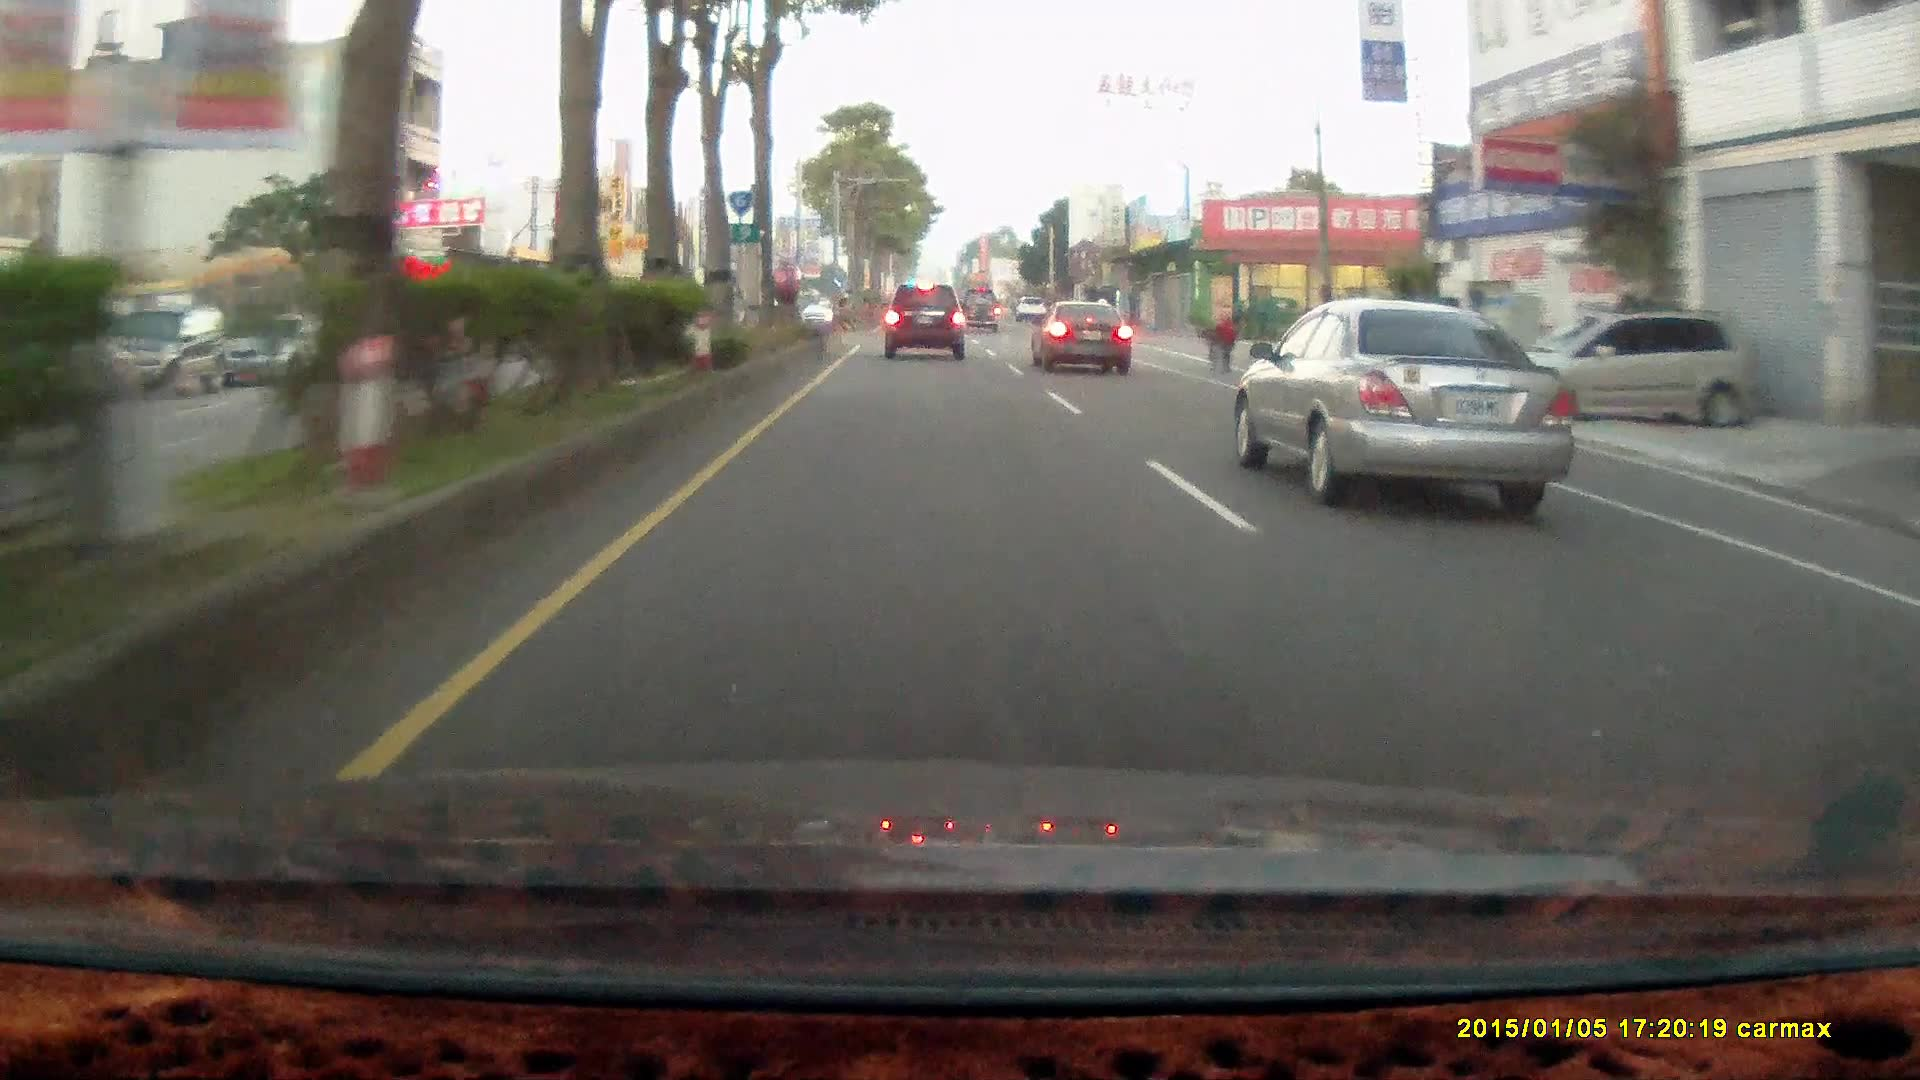pedestrian: (1213, 304, 1239, 375), (1217, 302, 1241, 366)
vehicle: (1238, 297, 1572, 505), (1500, 304, 1753, 427), (1516, 305, 1756, 428), (213, 307, 382, 392), (97, 303, 228, 397), (218, 311, 343, 384), (1032, 298, 1137, 378), (1029, 295, 1131, 373), (883, 279, 971, 359), (884, 284, 965, 359), (959, 282, 999, 328)
